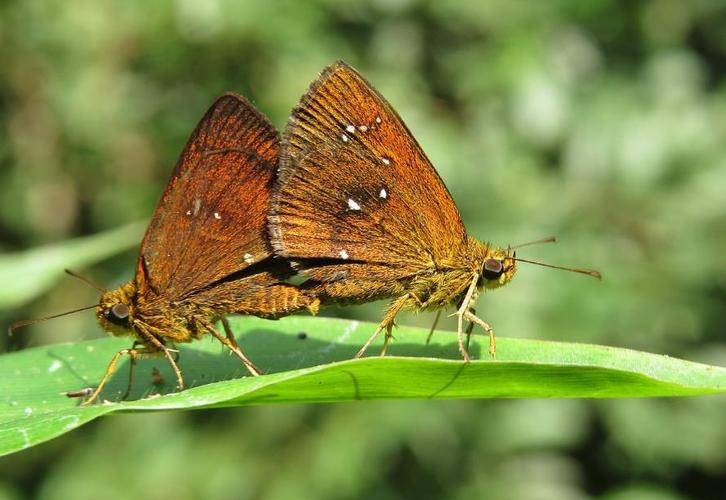Hesperiidae: (269, 64, 598, 368), (10, 89, 295, 395)
